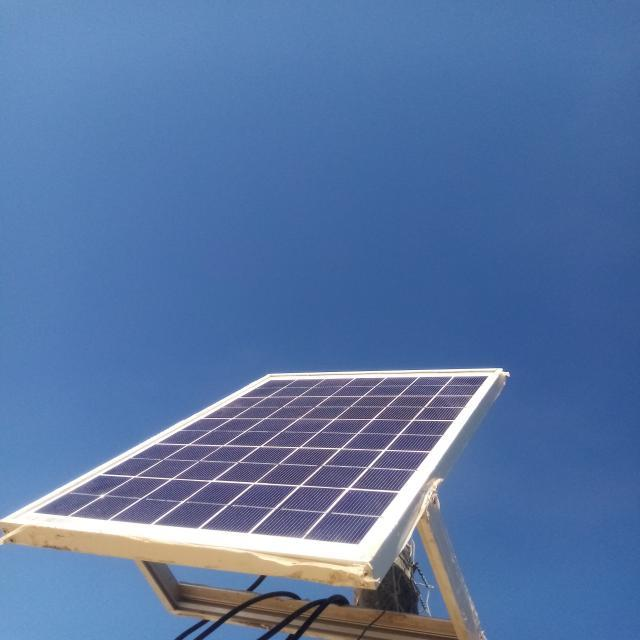no faulty: (0, 372, 505, 566)
